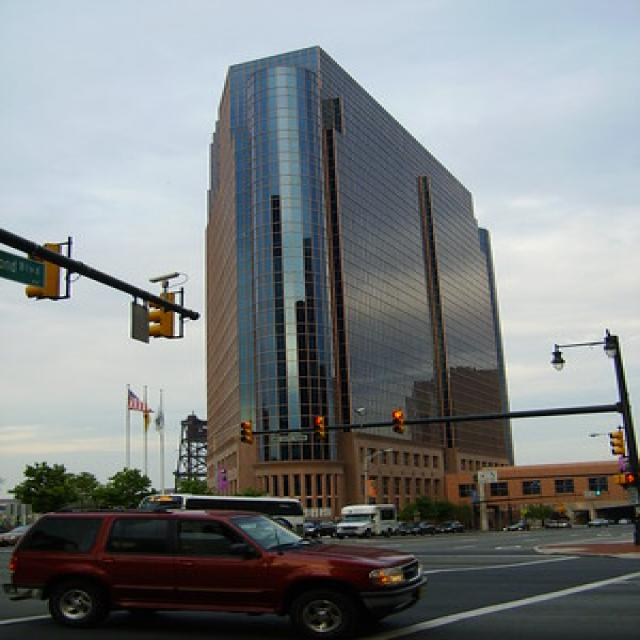Normal_building: (196, 41, 525, 526)
